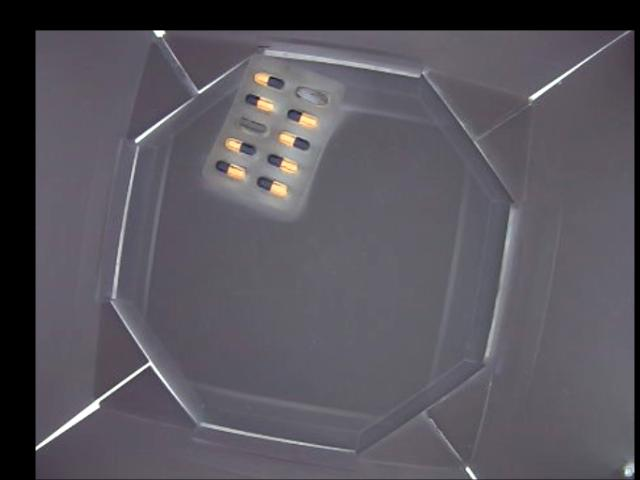Medicine: (200, 52, 346, 220)
